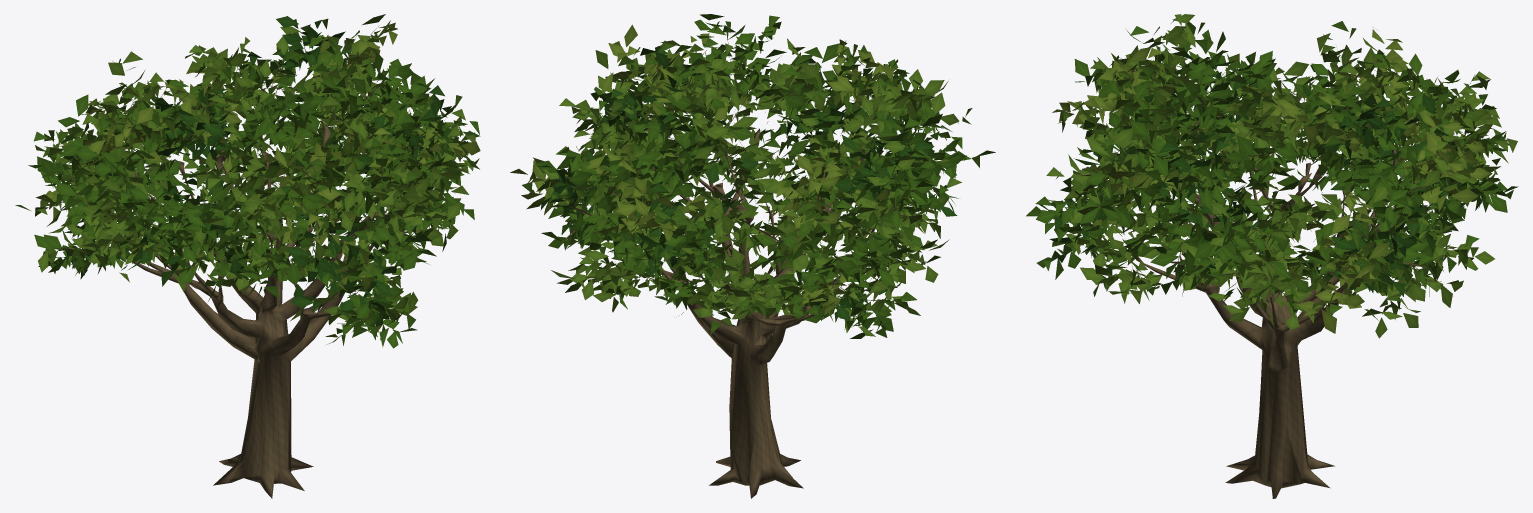
File: Broadleaf_LOD2.glb
3 renders of one model, left to right at view 1: azimuth 30°, elevation 25°; view 2: azimuth 150°, elevation 25°; view 3: azimuth 270°, elevation 25°, orthographic. The views are drawn at different scales.
Parts seen in each view (by area): view 1: Broadleaf_Layered_Leaf_Clusters.006, Broadleaf_Tapered_Branch_Network.007, Broadleaf_Terminal_Shoots.006; view 2: Broadleaf_Layered_Leaf_Clusters.006, Broadleaf_Tapered_Branch_Network.007, Broadleaf_Terminal_Shoots.006; view 3: Broadleaf_Layered_Leaf_Clusters.006, Broadleaf_Tapered_Branch_Network.007, Broadleaf_Terminal_Shoots.006.
Boxes of the visible parts, <box> form: Broadleaf_Layered_Leaf_Clusters.006: <box>15,14,480,348</box>; Broadleaf_Tapered_Branch_Network.007: <box>129,117,395,498</box>; Broadleaf_Terminal_Shoots.006: <box>45,26,446,296</box>; Broadleaf_Layered_Leaf_Clusters.006: <box>510,14,995,338</box>; Broadleaf_Tapered_Branch_Network.007: <box>626,110,875,498</box>; Broadleaf_Terminal_Shoots.006: <box>561,31,938,309</box>; Broadleaf_Layered_Leaf_Clusters.006: <box>1026,14,1518,338</box>; Broadleaf_Tapered_Branch_Network.007: <box>1115,113,1423,498</box>; Broadleaf_Terminal_Shoots.006: <box>1061,51,1484,297</box>.
Size of the model in its own units: 7.99 by 7.92 by 7.97.
Materials: 2 (2 with a texture image).
